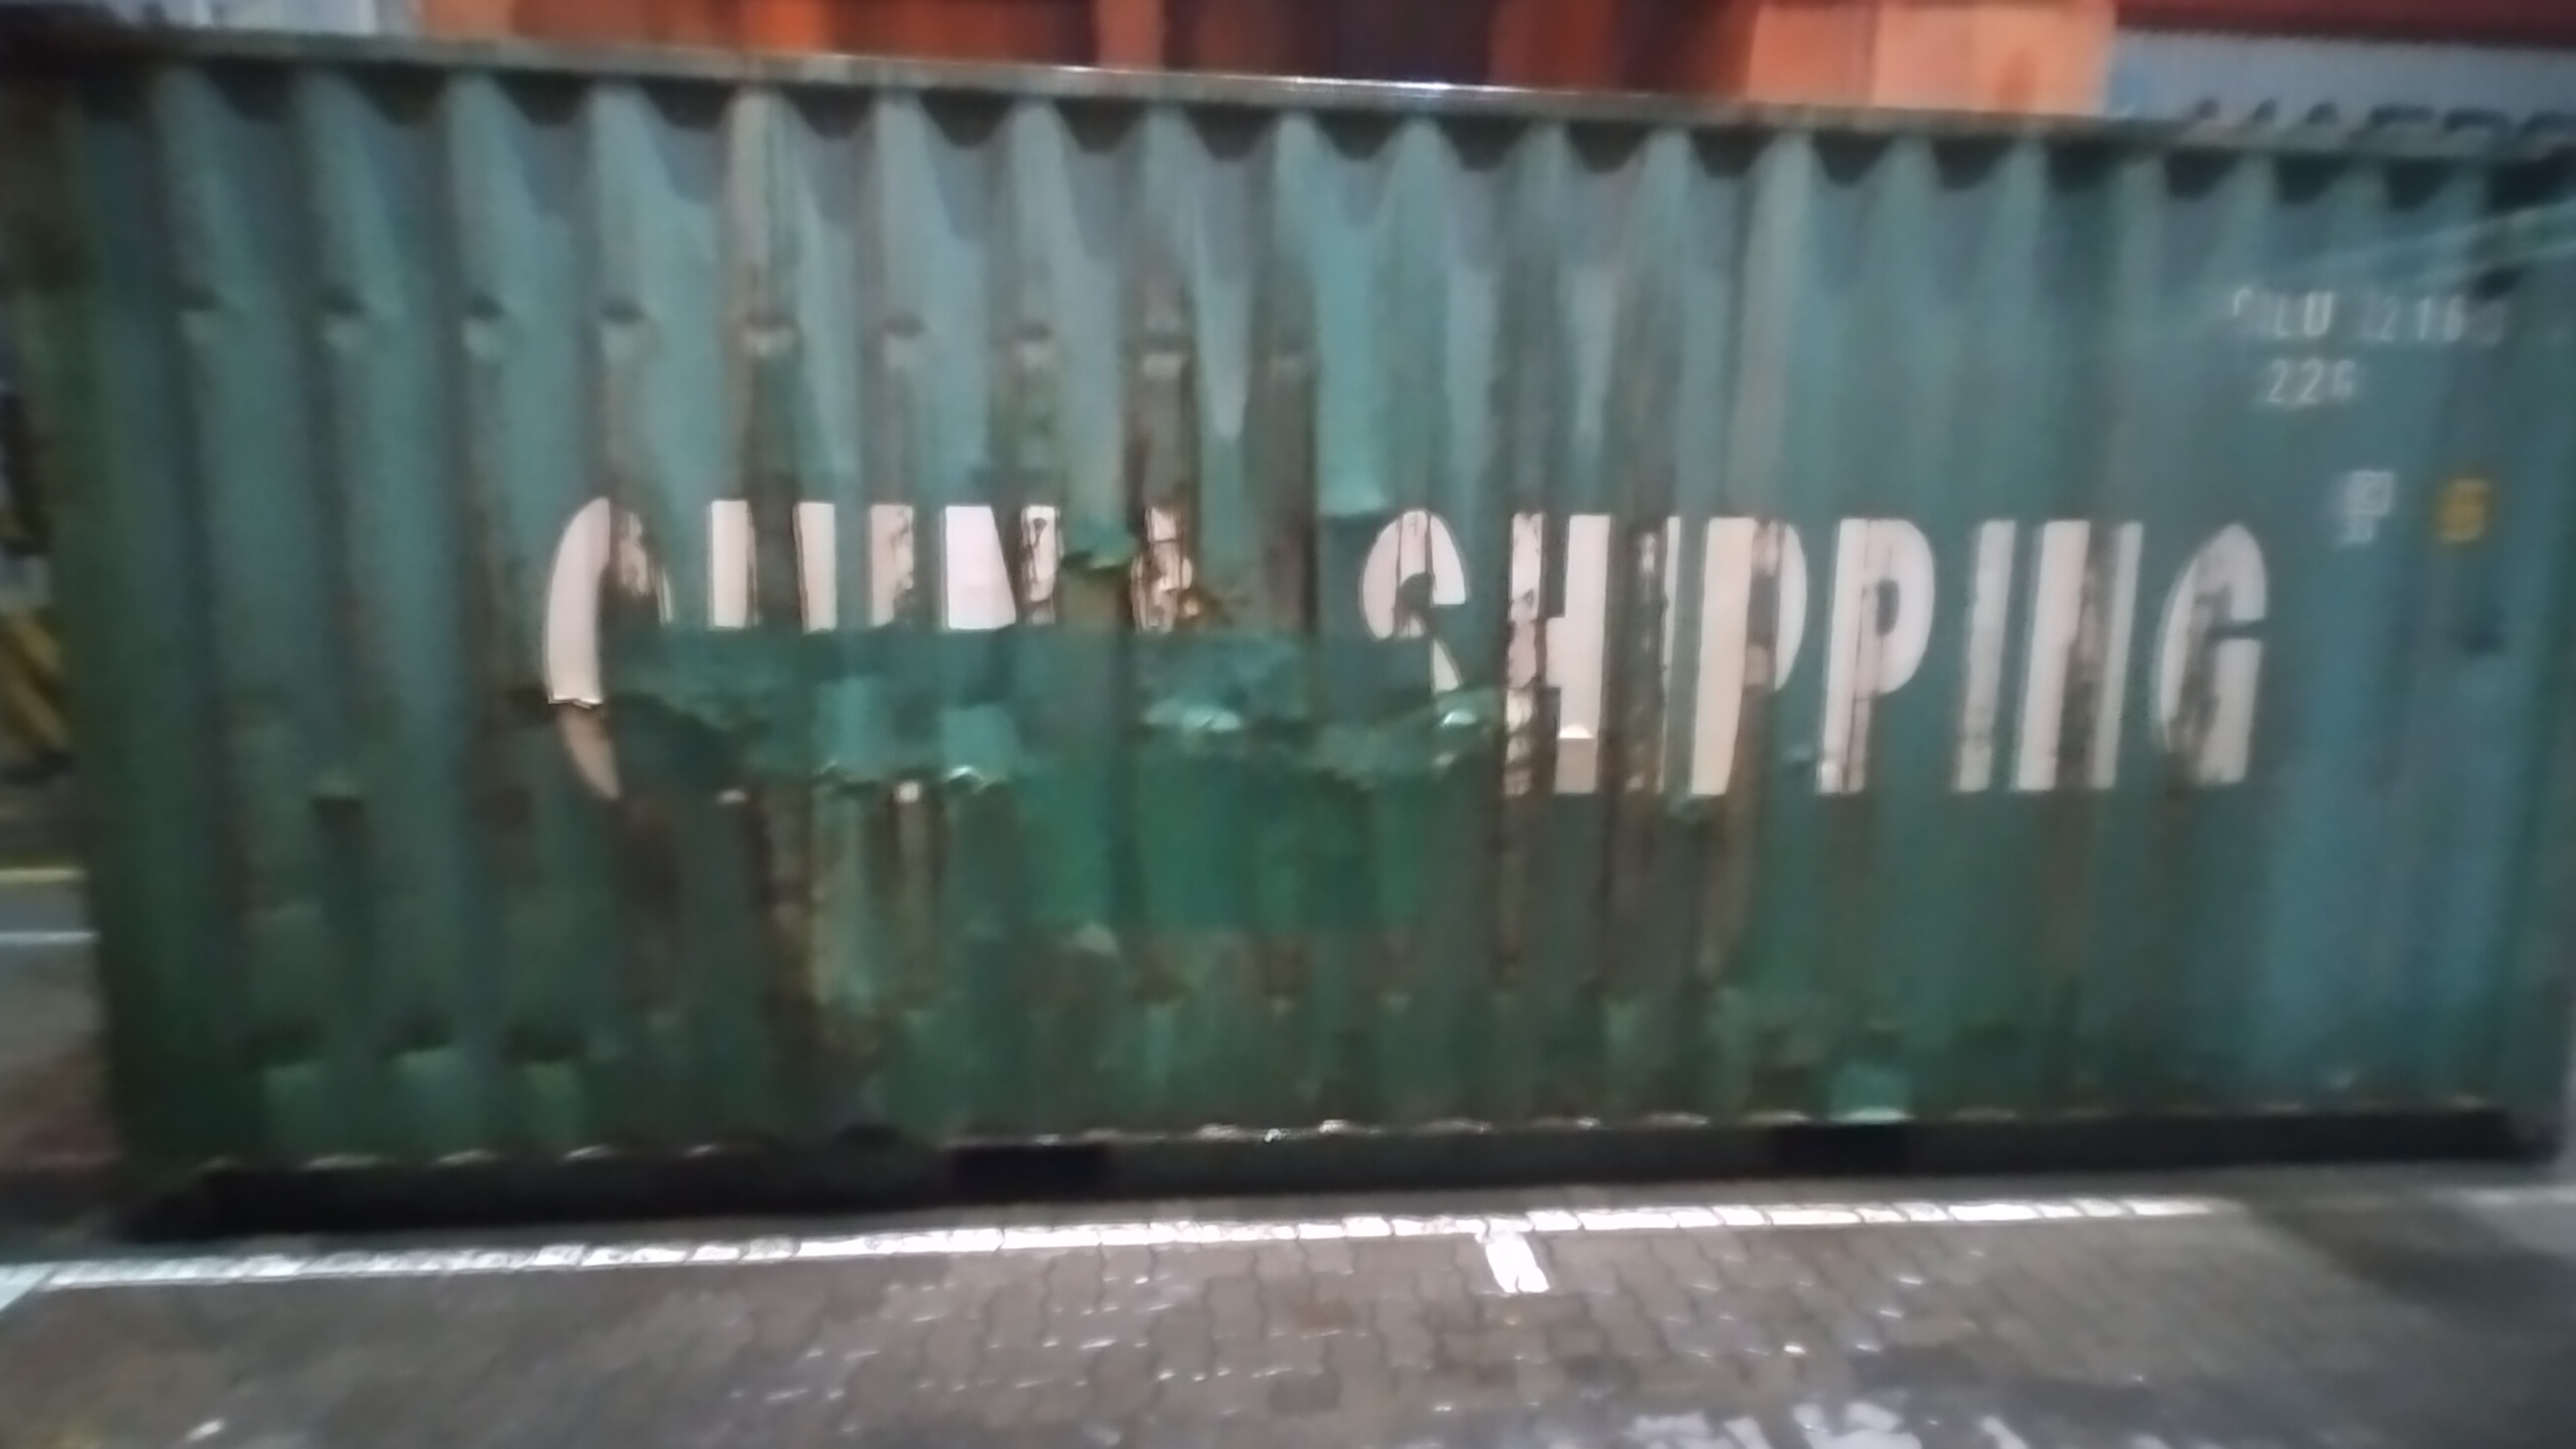dented: (172, 235, 1336, 419), (490, 662, 1010, 865), (1134, 676, 1520, 823), (276, 1012, 655, 1093)
